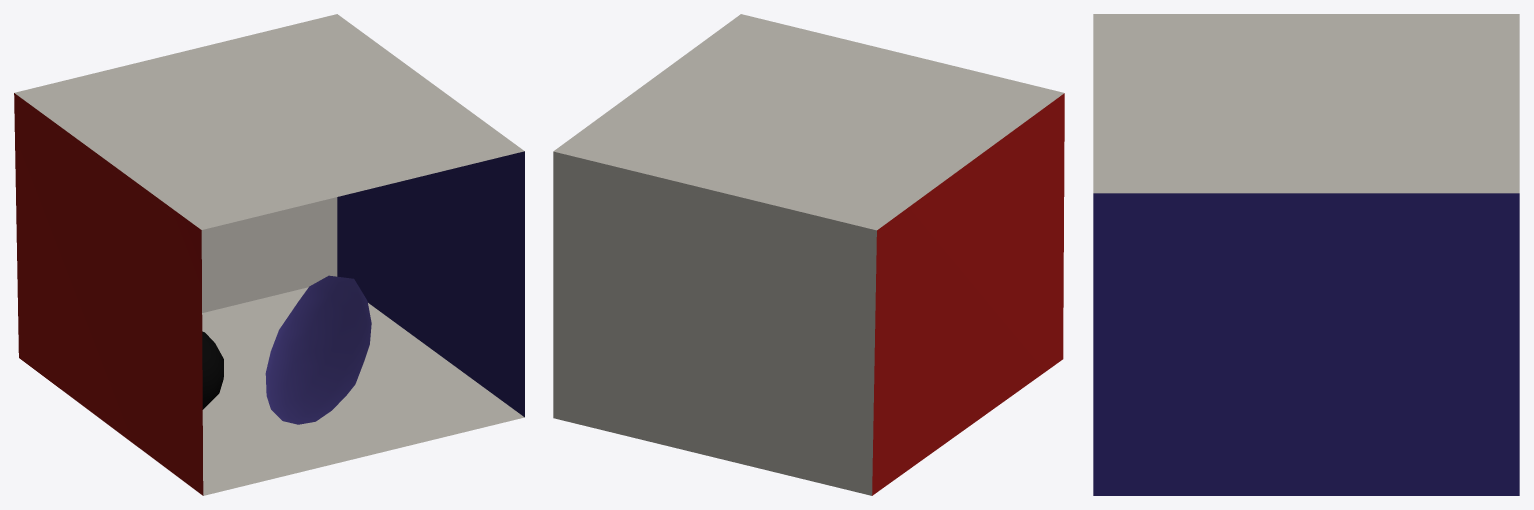
The model's file is CornellBox-Ellipsoid-408.obj.
3 renders of one model, left to right at view 1: azimuth 30°, elevation 25°; view 2: azimuth 150°, elevation 25°; view 3: azimuth 270°, elevation 25°, orthographic. The views are drawn at different scales.
Visible parts, largest first — view 1: ceiling, leftWall, rightWall, floor, leftSphere, backWall, rightSphere; view 2: backWall, ceiling, leftWall; view 3: rightWall, ceiling.
Part boxes in pixels (x1,y1,x2,y2): ceiling: (14,14,524,229); leftWall: (14,93,203,495); rightWall: (337,151,524,417); floor: (202,287,524,495); leftSphere: (265,275,371,424); backWall: (201,197,337,312); rightSphere: (202,331,223,409); backWall: (553,151,876,495); ceiling: (553,14,1064,230); leftWall: (872,93,1064,495); rightWall: (1093,193,1519,495); ceiling: (1093,14,1519,193).
Size of the model in its own units: 2.02 by 1.59 by 2.03.
